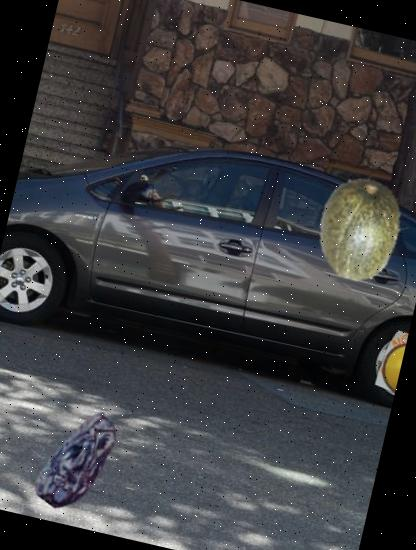Dates: (15, 396, 145, 526)
Melon: (301, 167, 416, 289)
